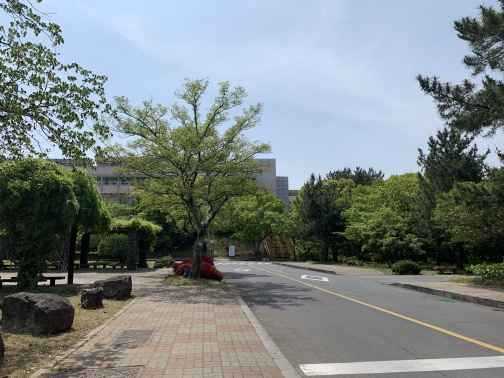College Of Education: (50, 148, 309, 220)
